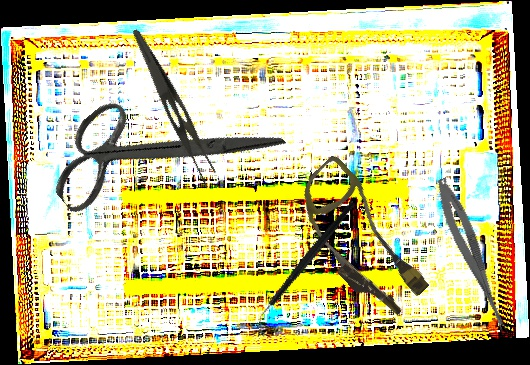Cannula: (276, 153, 445, 326)
Chopper: (227, 199, 386, 332)
Dressing Forceps: (114, 27, 229, 191)
Iris Scissors: (31, 30, 287, 276)
Micro Scissor: (429, 175, 519, 338)
